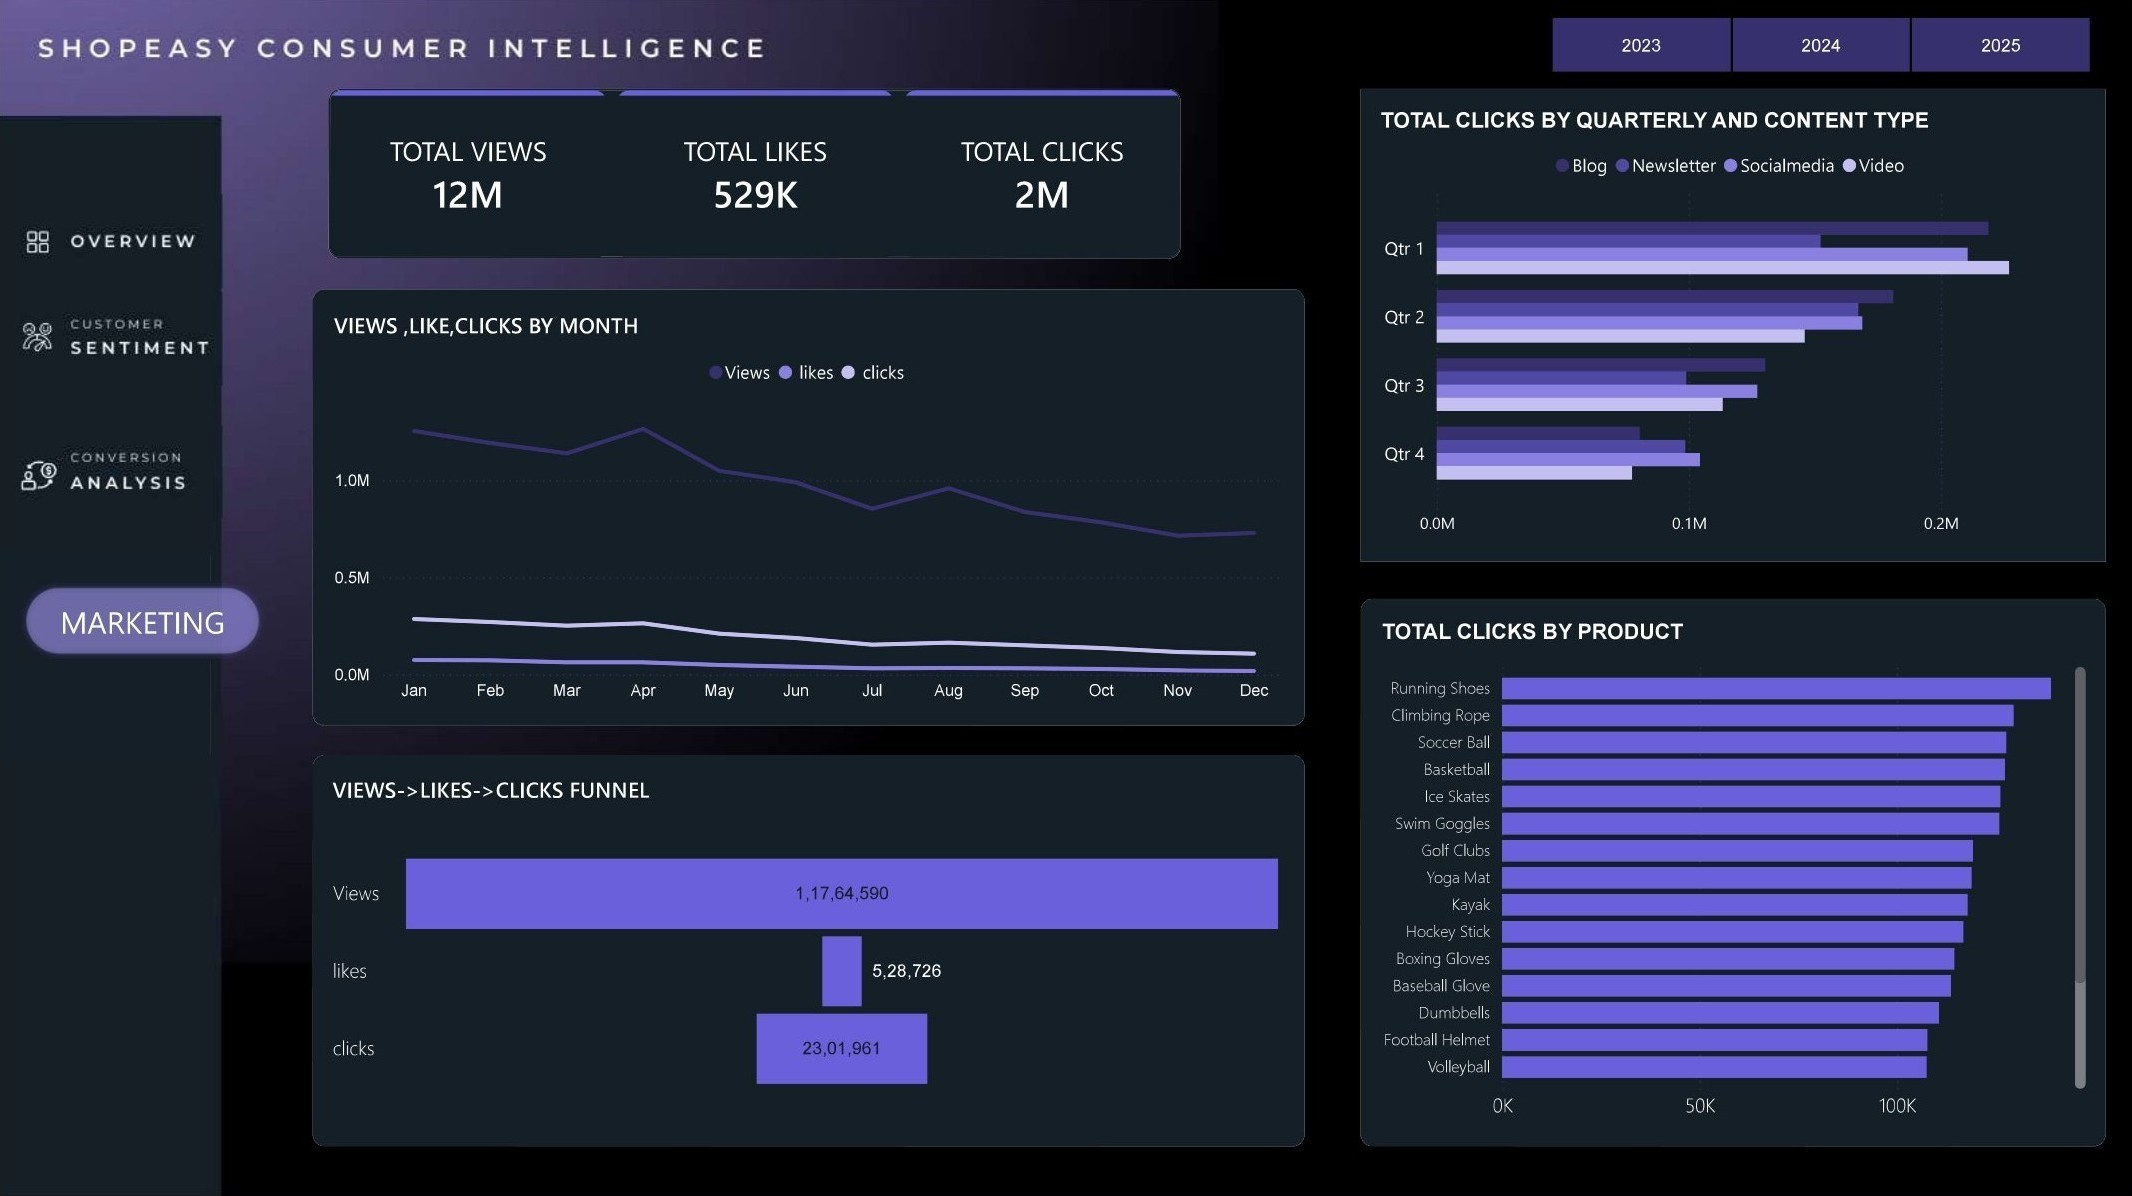

The dashboard page shown, as its layout file describes it:
{"tool":"powerbi","page":{"name":"Marketing Performance","canvas":[1600,900],"ordinal":3},"visuals":[{"type":"shape","box":[235,566.7,743.3,293.3],"z":0},{"type":"cardVisual","fields":{"Data":["Sum(engagement_data_cleaned.Views)","Sum(engagement_data_cleaned.likes)","Sum(engagement_data_cleaned.clicks)"]},"box":[246.7,68.3,638.3,126.7],"z":1000},{"type":"lineChart","title":"VIEWS ,LIKE,CLICKS BY MONTH","fields":{"Category":["Calendar.MonthNameShort"],"Y":["Sum(engagement_data_cleaned.Views)","Sum(engagement_data_cleaned.likes)","Sum(engagement_data_cleaned.clicks)"]},"box":[235,218.3,743.3,326.7],"z":2000},{"type":"funnel","title":"VIEWS->LIKES->CLICKS FUNNEL","fields":{"Y":["Sum(engagement_data_cleaned.Views)","Sum(engagement_data_cleaned.likes)","Sum(engagement_data_cleaned.clicks)"]},"box":[235,566.7,743.3,293.3],"z":3000},{"type":"barChart","title":"TOTAL CLICKS BY PRODUCT","fields":{"Category":["products.ProductName"],"Y":["Sum(engagement_data_cleaned.clicks)"]},"box":[1020,450,558.3,410],"z":4000},{"type":"clusteredBarChart","title":"TOTAL CLICKS BY QUARTERLY AND CONTENT TYPE","fields":{"Category":["Calendar.Date.Variation.Date Hierarchy.Quarter"],"Series":["engagement_data_cleaned.ContentType"],"Y":["Sum(engagement_data_cleaned.clicks)"]},"box":[1020,68.3,558.3,353.3],"z":5000},{"type":"shape","box":[0,416.7,158.3,150],"z":6000},{"type":"shape","box":[0,421.7,215,90],"z":7000},{"type":"pageNavigator","box":[0,205,183.3,100],"z":8000},{"type":"pageNavigator","box":[0,305,183.3,100],"z":9000},{"type":"pageNavigator","box":[0,131.7,183.3,100],"z":10000},{"type":"slicer","fields":{"Values":["Calendar.Date.Variation.Date Hierarchy.Year"]},"box":[1142.6,13.1,442.6,44.3],"z":11000}]}

Visuals, with their boxes in screenshot pixels (x1, y1, x2, y2), scaled from the page's 1600x900 canvas onto the 2132x1196 screenshot:
shape: Rect(313, 753, 1304, 1143)
cardVisual - Sum(engagement_data_cleaned.Views) x Sum(engagement_data_cleaned.likes): Rect(329, 91, 1179, 259)
"VIEWS ,LIKE,CLICKS BY MONTH" lineChart: Rect(313, 290, 1304, 724)
"VIEWS->LIKES->CLICKS FUNNEL" funnel: Rect(313, 753, 1304, 1143)
"TOTAL CLICKS BY PRODUCT" barChart: Rect(1359, 598, 2103, 1143)
"TOTAL CLICKS BY QUARTERLY AND CONTENT TYPE" clusteredBarChart: Rect(1359, 91, 2103, 560)
shape: Rect(0, 554, 211, 753)
shape: Rect(0, 560, 286, 680)
pageNavigator: Rect(0, 272, 244, 405)
pageNavigator: Rect(0, 405, 244, 538)
pageNavigator: Rect(0, 175, 244, 308)
slicer - Calendar.Date.Variation.Date Hierarchy.Year: Rect(1523, 17, 2112, 76)
